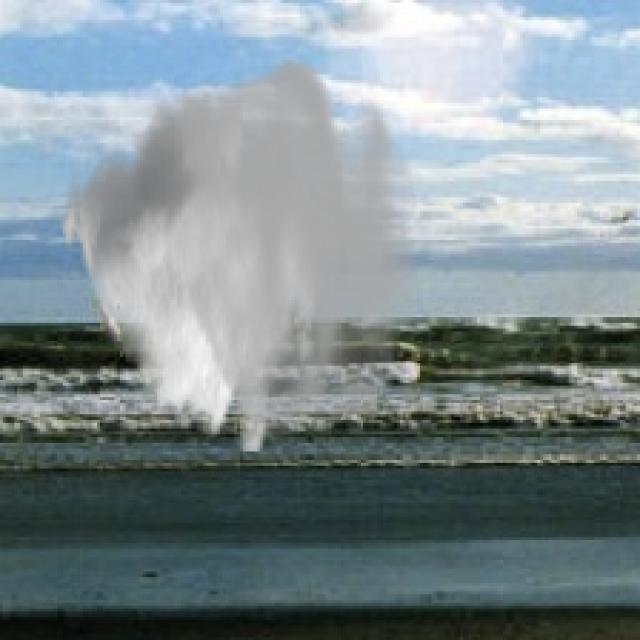smoke: (57, 51, 420, 452)
